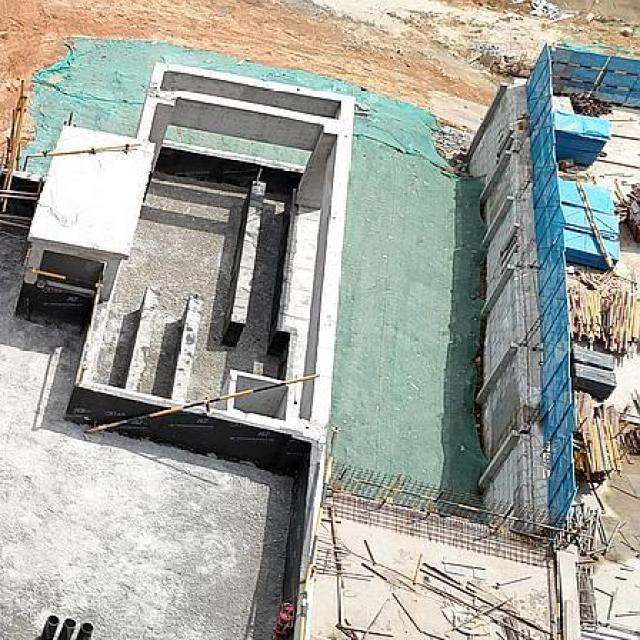edge_guardrail: (327, 469, 582, 550), (84, 373, 320, 434), (298, 455, 334, 640), (551, 60, 640, 97), (26, 266, 104, 288)
